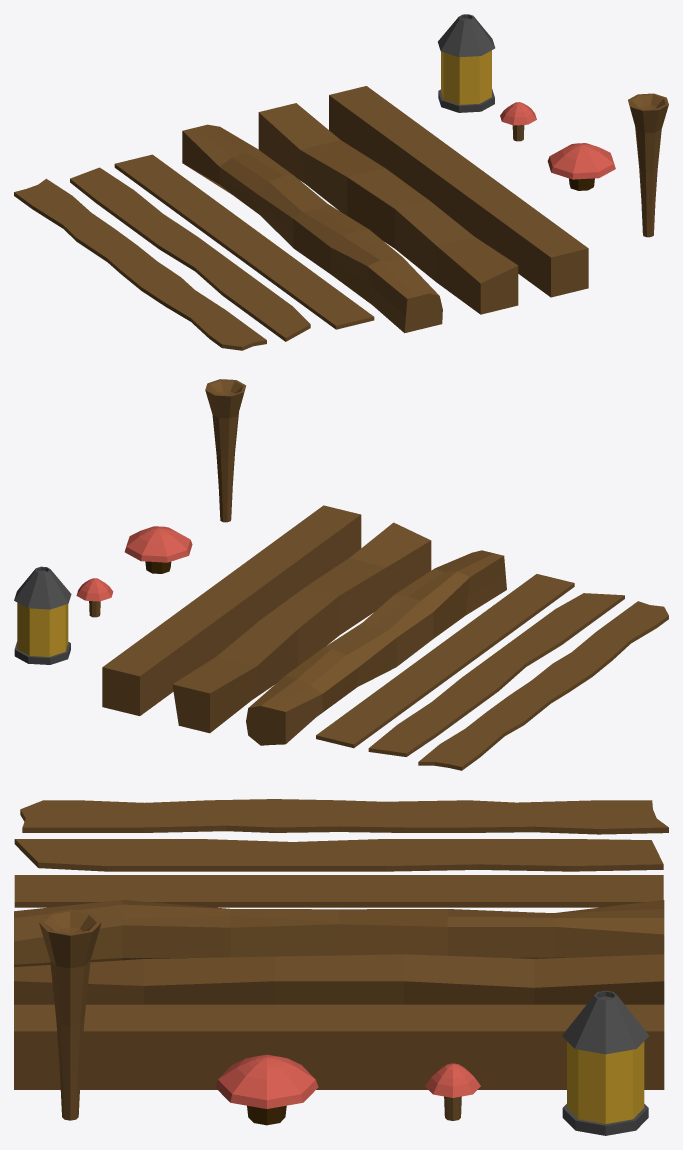
The model's file is OtherAssets.fbx.
The picture shows the model from 3 angles, top to bottom: view 1: azimuth 30°, elevation 25°; view 2: azimuth 150°, elevation 25°; view 3: azimuth 270°, elevation 25°; orthographic projection. The views are drawn at different scales.
Parts seen in each view (by area): view 1: WoodenBeam.001, WoodenBeam.000, WoodenBeam.002, WoodenPlank.000, WoodenPlank.002, WoodenPlank.001, Lantern, Torch, MushroomBig, MushroomSmall; view 2: WoodenBeam.001, WoodenBeam.000, WoodenBeam.002, WoodenPlank.000, WoodenPlank.002, WoodenPlank.001, Lantern, Torch, MushroomBig, MushroomSmall; view 3: WoodenBeam.000, WoodenBeam.002, WoodenBeam.001, WoodenPlank.002, WoodenPlank.000, WoodenPlank.001, Lantern, Torch, MushroomBig, MushroomSmall.
Part boxes in pixels (x1,y1,x2,y2): WoodenBeam.001: (258,103,518,314); WoodenBeam.000: (329,86,588,297); WoodenBeam.002: (182,124,442,333); WoodenPlank.000: (114,154,374,329); WoodenPlank.002: (14,178,266,350); WoodenPlank.001: (70,167,310,341); Lantern: (438,14,495,112); Torch: (628,93,668,237); MushroomBig: (547,143,615,190); MushroomSmall: (500,102,536,141); WoodenBeam.001: (172,522,431,733); WoodenBeam.000: (102,505,361,715); WoodenBeam.002: (246,550,506,745); WoodenPlank.000: (316,574,574,748); WoodenPlank.002: (418,601,668,770); WoodenPlank.001: (368,593,624,756); Lantern: (14,566,71,664); Torch: (205,379,246,522); MushroomBig: (124,526,192,573); MushroomSmall: (76,578,113,617); WoodenBeam.000: (14,1004,664,1089); WoodenBeam.002: (14,900,664,967); WoodenBeam.001: (14,954,664,1004); WoodenPlank.002: (20,799,668,834); WoodenPlank.000: (14,875,663,907); WoodenPlank.001: (14,839,663,871); Lantern: (562,990,649,1135); Torch: (39,909,101,1120); MushroomBig: (215,1054,318,1125); MushroomSmall: (425,1063,480,1120).
Bounding box in the file's own units: 72.46 × 22.58 × 59.91.
